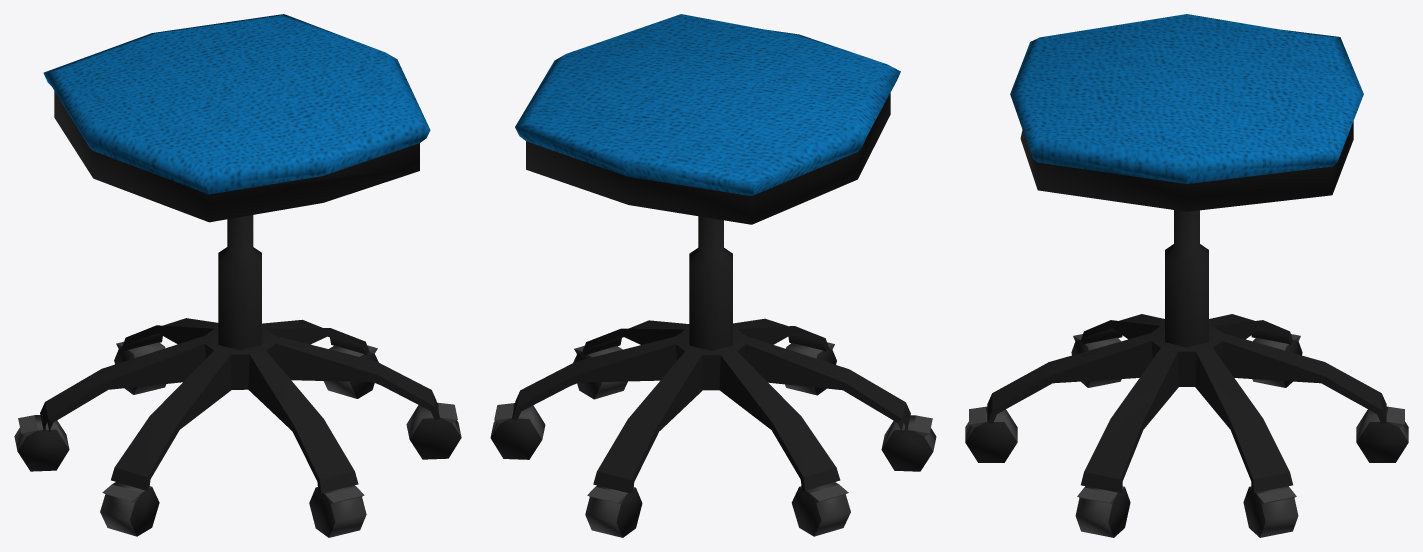
Rendered from Computer_Stool_D.FBX.
The picture shows the model from 3 angles, left to right: view 1: azimuth 30°, elevation 25°; view 2: azimuth 150°, elevation 25°; view 3: azimuth 270°, elevation 25°; orthographic projection.
Visible parts, largest first — view 1: Computer_Stool; view 2: Computer_Stool; view 3: Computer_Stool.
Boxes of the visible parts, left/top/right/bottom form: Computer_Stool: left=14, top=14, right=461, bottom=537; Computer_Stool: left=490, top=14, right=936, bottom=537; Computer_Stool: left=965, top=14, right=1408, bottom=537.
Size of the model in its own units: 76.63 by 75.5 by 81.44.
